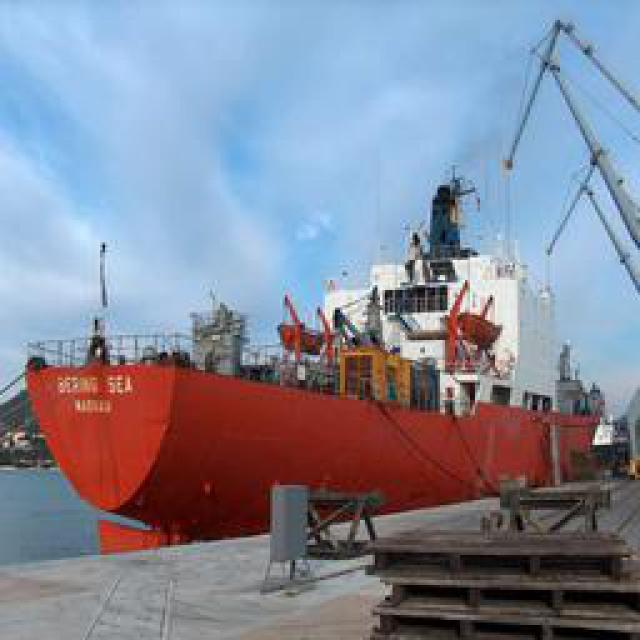Ship: (17, 153, 615, 541)
